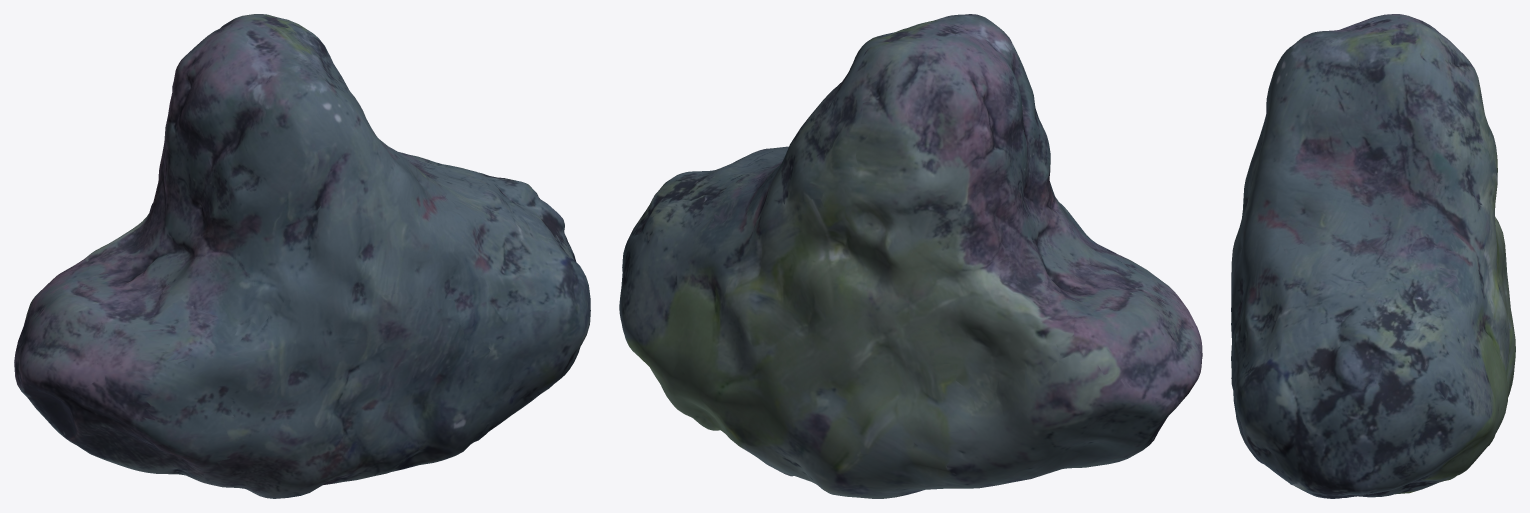
Rendered from Malte_Car.glb.
The picture shows the model from 3 angles, left to right: view 1: azimuth 30°, elevation 25°; view 2: azimuth 150°, elevation 25°; view 3: azimuth 270°, elevation 25°; orthographic projection. The views are drawn at different scales.
Visible parts, largest first — view 1: Malte_Car; view 2: Malte_Car; view 3: Malte_Car.
Part boxes in pixels (x1,y1,x2,y2): Malte_Car: [14, 14, 590, 498]; Malte_Car: [619, 14, 1202, 498]; Malte_Car: [1231, 14, 1515, 498].
Bounding box in the file's own units: 1.49 × 1.16 × 0.7342.
1 material, 1 textured.
